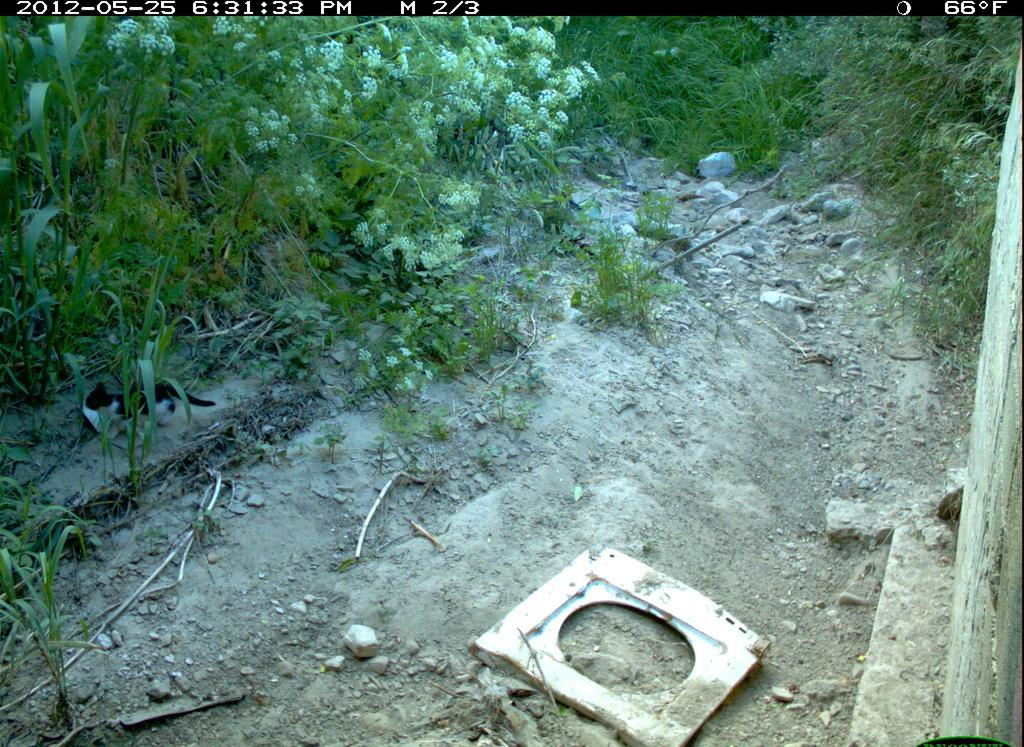cat: (86, 376, 225, 436)
